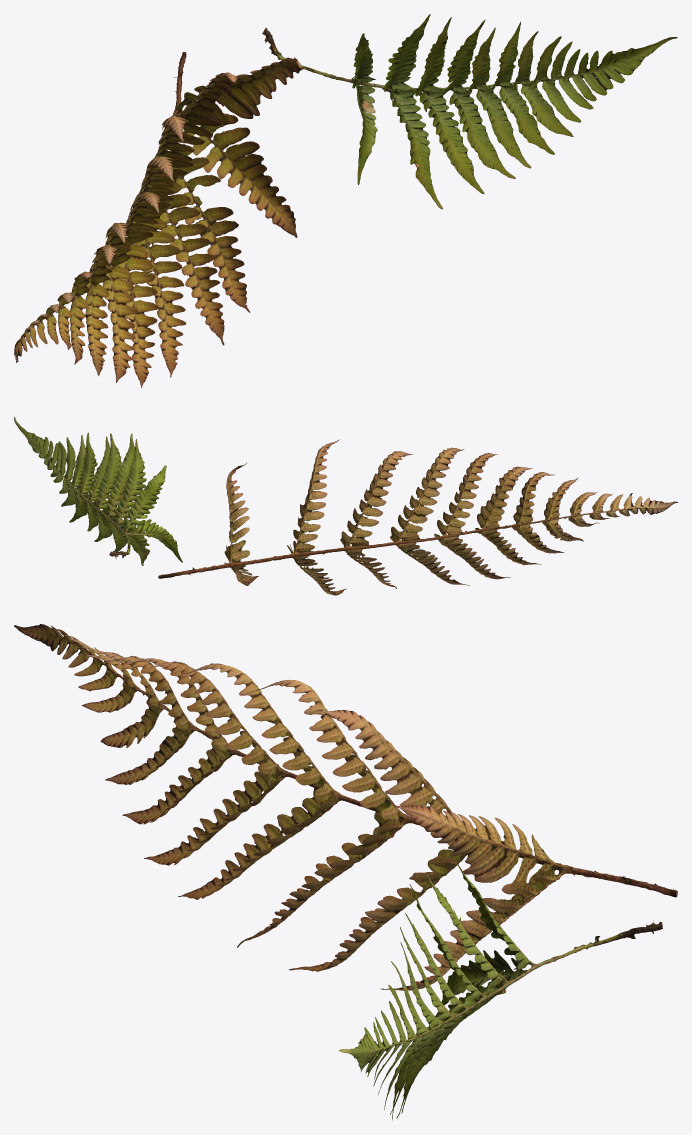
Rendered from fern.glb.
The picture shows the model from 3 angles, top to bottom: view 1: azimuth 30°, elevation 25°; view 2: azimuth 150°, elevation 25°; view 3: azimuth 270°, elevation 25°; orthographic projection. The views are drawn at different scales.
Visible parts, largest first — view 1: Object_6, Object_15; view 2: Object_6, Object_15; view 3: Object_6, Object_15.
Boxes of the visible parts, x1,y1,x2,y2 form: Object_6: (14,52,302,387); Object_15: (262,14,677,209); Object_6: (158,439,677,595); Object_15: (14,416,182,565); Object_6: (14,624,677,990); Object_15: (339,862,662,1120).
Bounding box in the file's own units: 1 × 0.2699 × 0.6133.
Materials: 2 (2 with a texture image).
